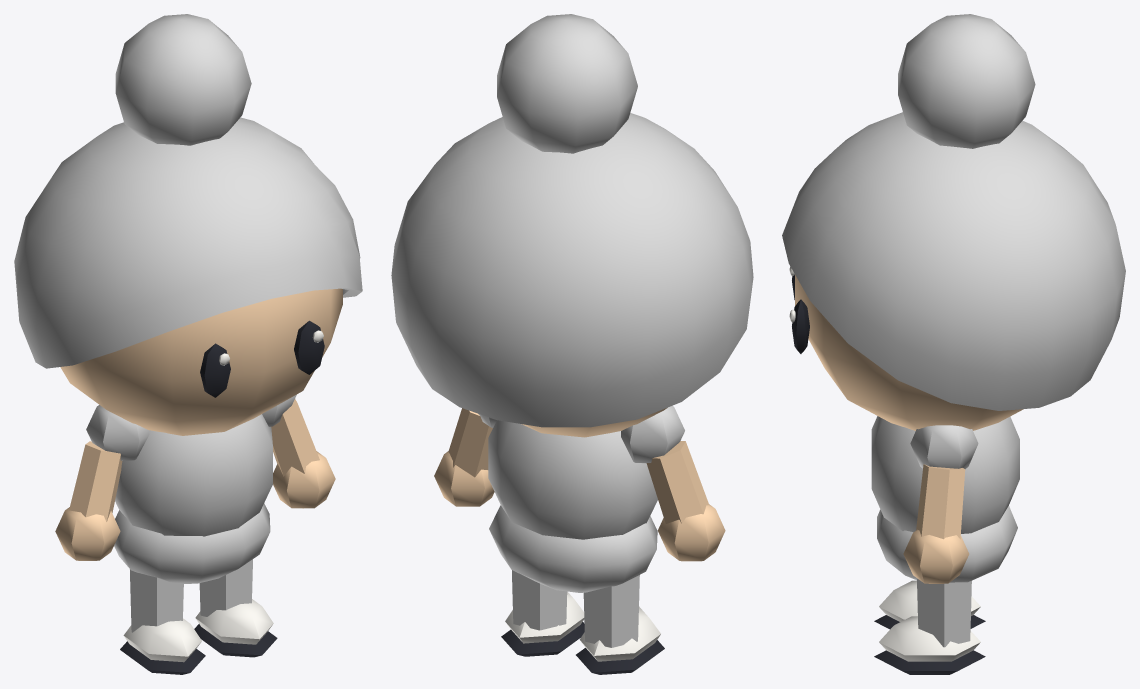
The model's file is guyh_bun.fbx.
The picture shows the model from 3 angles, left to right: view 1: azimuth 30°, elevation 25°; view 2: azimuth 150°, elevation 25°; view 3: azimuth 270°, elevation 25°; orthographic projection. The views are drawn at different scales.
Visible parts, largest first — view 1: guyh_bun; view 2: guyh_bun; view 3: guyh_bun.
Part boxes in pixels (left/top/right/bottom): guyh_bun: left=14, top=14, right=362, bottom=674; guyh_bun: left=391, top=14, right=753, bottom=674; guyh_bun: left=782, top=14, right=1125, bottom=674.
Bounding box in the file's own units: 0.4409 × 0.8627 × 0.4267.
